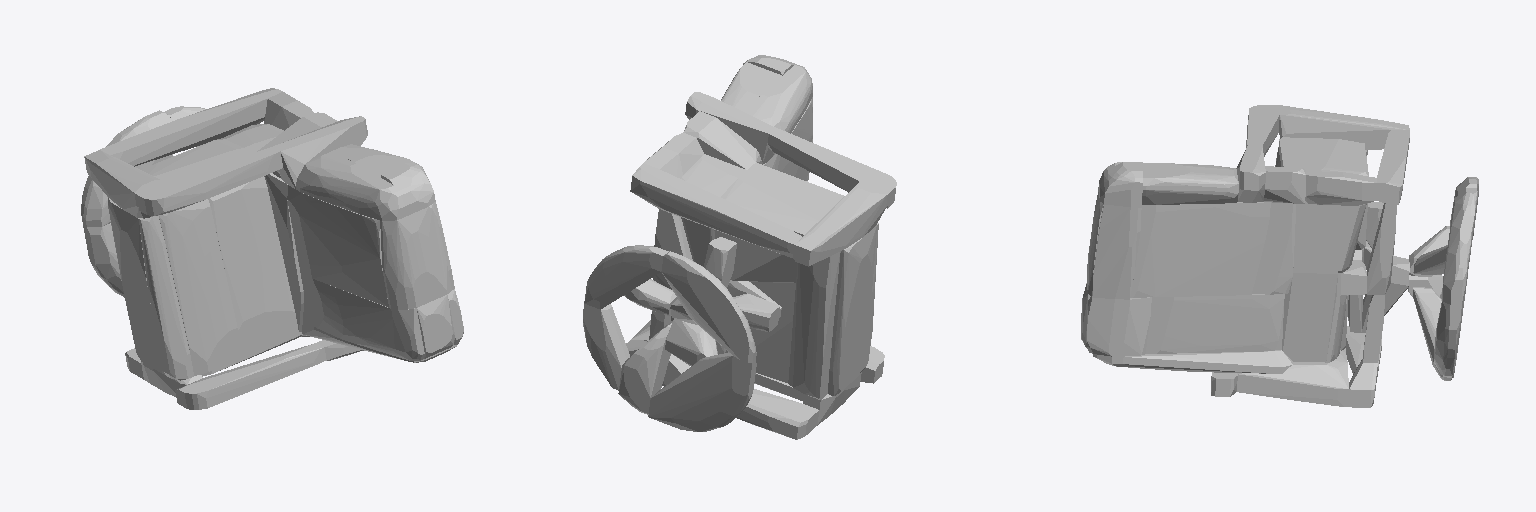
The model's file is chair2.obj.
The picture shows the model from 3 angles: view 1: azimuth 30°, elevation 25°; view 2: azimuth 150°, elevation 25°; view 3: azimuth 270°, elevation 25°; orthographic projection.
Parts seen in each view (by area): view 1: ShapeIndexedFaceSet.038_ShapeIndexedFaceSet.039, ShapeIndexedFaceSet.037_ShapeIndexedFaceSet.038, ShapeIndexedFaceSet.055_ShapeIndexedFaceSet, ShapeIndexedFaceSet.049_ShapeIndexedFaceSet.050, ShapeIndexedFaceSet.041_ShapeIndexedFaceSet.042, ShapeIndexedFaceSet.012_ShapeIndexedFaceSet.013, ShapeIndexedFaceSet.032_ShapeIndexedFaceSet.033, ShapeIndexedFaceSet.021_ShapeIndexedFaceSet.022, ShapeIndexedFaceSet.001_ShapeIndexedFaceSet.002, ShapeIndexedFaceSet.020_ShapeIndexedFaceSet.021, ShapeIndexedFaceSet.011_ShapeIndexedFaceSet.012, ShapeIndexedFaceSet.031_ShapeIndexedFaceSet.032 (+13 smaller); view 2: ShapeIndexedFaceSet_ShapeIndexedFaceSet.001, ShapeIndexedFaceSet.012_ShapeIndexedFaceSet.013, ShapeIndexedFaceSet.035_ShapeIndexedFaceSet.036, ShapeIndexedFaceSet.020_ShapeIndexedFaceSet.021, ShapeIndexedFaceSet.010_ShapeIndexedFaceSet.011, ShapeIndexedFaceSet.023_ShapeIndexedFaceSet.024, ShapeIndexedFaceSet.008_ShapeIndexedFaceSet.009, ShapeIndexedFaceSet.001_ShapeIndexedFaceSet.002, ShapeIndexedFaceSet.004_ShapeIndexedFaceSet.005, ShapeIndexedFaceSet.048_ShapeIndexedFaceSet.049, ShapeIndexedFaceSet.002_ShapeIndexedFaceSet.003, ShapeIndexedFaceSet.032_ShapeIndexedFaceSet.033 (+22 smaller); view 3: ShapeIndexedFaceSet.052_ShapeIndexedFaceSet.053, ShapeIndexedFaceSet.054_ShapeIndexedFaceSet.055, ShapeIndexedFaceSet.016_ShapeIndexedFaceSet.017, ShapeIndexedFaceSet.017_ShapeIndexedFaceSet.018, ShapeIndexedFaceSet.025_ShapeIndexedFaceSet.026, ShapeIndexedFaceSet.028_ShapeIndexedFaceSet.029, ShapeIndexedFaceSet.033_ShapeIndexedFaceSet.034, ShapeIndexedFaceSet.014_ShapeIndexedFaceSet.015, ShapeIndexedFaceSet.008_ShapeIndexedFaceSet.009, ShapeIndexedFaceSet.051_ShapeIndexedFaceSet.052, ShapeIndexedFaceSet.004_ShapeIndexedFaceSet.005, ShapeIndexedFaceSet.023_ShapeIndexedFaceSet.024 (+21 smaller).
Boxes of the visible parts, x1=… form: ShapeIndexedFaceSet.038_ShapeIndexedFaceSet.039: x1=208, y1=176, x2=298, y2=356; ShapeIndexedFaceSet.037_ShapeIndexedFaceSet.038: x1=158, y1=199, x2=242, y2=375; ShapeIndexedFaceSet.055_ShapeIndexedFaceSet: x1=287, y1=185, x2=388, y2=307; ShapeIndexedFaceSet.049_ShapeIndexedFaceSet.050: x1=300, y1=272, x2=424, y2=360; ShapeIndexedFaceSet.041_ShapeIndexedFaceSet.042: x1=380, y1=204, x2=451, y2=309; ShapeIndexedFaceSet.012_ShapeIndexedFaceSet.013: x1=100, y1=88, x2=282, y2=166; ShapeIndexedFaceSet.032_ShapeIndexedFaceSet.033: x1=295, y1=152, x2=406, y2=220; ShapeIndexedFaceSet.021_ShapeIndexedFaceSet.022: x1=139, y1=216, x2=193, y2=380; ShapeIndexedFaceSet.001_ShapeIndexedFaceSet.002: x1=136, y1=147, x2=282, y2=215; ShapeIndexedFaceSet.020_ShapeIndexedFaceSet.021: x1=108, y1=198, x2=164, y2=374; ShapeIndexedFaceSet.011_ShapeIndexedFaceSet.012: x1=175, y1=343, x2=326, y2=409; ShapeIndexedFaceSet.031_ShapeIndexedFaceSet.032: x1=273, y1=116, x2=367, y2=188; ShapeIndexedFaceSet_ShapeIndexedFaceSet.001: x1=648, y1=352, x2=756, y2=431; ShapeIndexedFaceSet.012_ShapeIndexedFaceSet.013: x1=630, y1=163, x2=801, y2=257; ShapeIndexedFaceSet.035_ShapeIndexedFaceSet.036: x1=788, y1=251, x2=840, y2=399; ShapeIndexedFaceSet.020_ShapeIndexedFaceSet.021: x1=828, y1=225, x2=876, y2=395; ShapeIndexedFaceSet.010_ShapeIndexedFaceSet.011: x1=661, y1=251, x2=756, y2=362; ShapeIndexedFaceSet.023_ShapeIndexedFaceSet.024: x1=721, y1=165, x2=840, y2=236; ShapeIndexedFaceSet.008_ShapeIndexedFaceSet.009: x1=793, y1=182, x2=888, y2=266; ShapeIndexedFaceSet.001_ShapeIndexedFaceSet.002: x1=768, y1=128, x2=896, y2=208; ShapeIndexedFaceSet.004_ShapeIndexedFaceSet.005: x1=584, y1=245, x2=668, y2=309; ShapeIndexedFaceSet.048_ShapeIndexedFaceSet.049: x1=751, y1=282, x2=795, y2=382; ShapeIndexedFaceSet.002_ShapeIndexedFaceSet.003: x1=618, y1=321, x2=672, y2=414; ShapeIndexedFaceSet.032_ShapeIndexedFaceSet.033: x1=745, y1=65, x2=812, y2=155; ShapeIndexedFaceSet.052_ShapeIndexedFaceSet.053: x1=1130, y1=202, x2=1270, y2=297; ShapeIndexedFaceSet.054_ShapeIndexedFaceSet.055: x1=1146, y1=294, x2=1284, y2=353; ShapeIndexedFaceSet.016_ShapeIndexedFaceSet.017: x1=1282, y1=202, x2=1340, y2=362; ShapeIndexedFaceSet.017_ShapeIndexedFaceSet.018: x1=1092, y1=205, x2=1141, y2=299; ShapeIndexedFaceSet.025_ShapeIndexedFaceSet.026: x1=1237, y1=350, x2=1348, y2=406; ShapeIndexedFaceSet.028_ShapeIndexedFaceSet.029: x1=1086, y1=296, x2=1151, y2=356; ShapeIndexedFaceSet.033_ShapeIndexedFaceSet.034: x1=1142, y1=167, x2=1238, y2=204; ShapeIndexedFaceSet.014_ShapeIndexedFaceSet.015: x1=1093, y1=350, x2=1292, y2=373; ShapeIndexedFaceSet.008_ShapeIndexedFaceSet.009: x1=1278, y1=105, x2=1409, y2=149; ShapeIndexedFaceSet.051_ShapeIndexedFaceSet.052: x1=1252, y1=202, x2=1295, y2=294; ShapeIndexedFaceSet.004_ShapeIndexedFaceSet.005: x1=1442, y1=188, x2=1477, y2=304; ShapeIndexedFaceSet.023_ShapeIndexedFaceSet.024: x1=1286, y1=137, x2=1368, y2=175.
Bounding box in the file's own units: 0.6027 × 0.6122 × 0.8617.